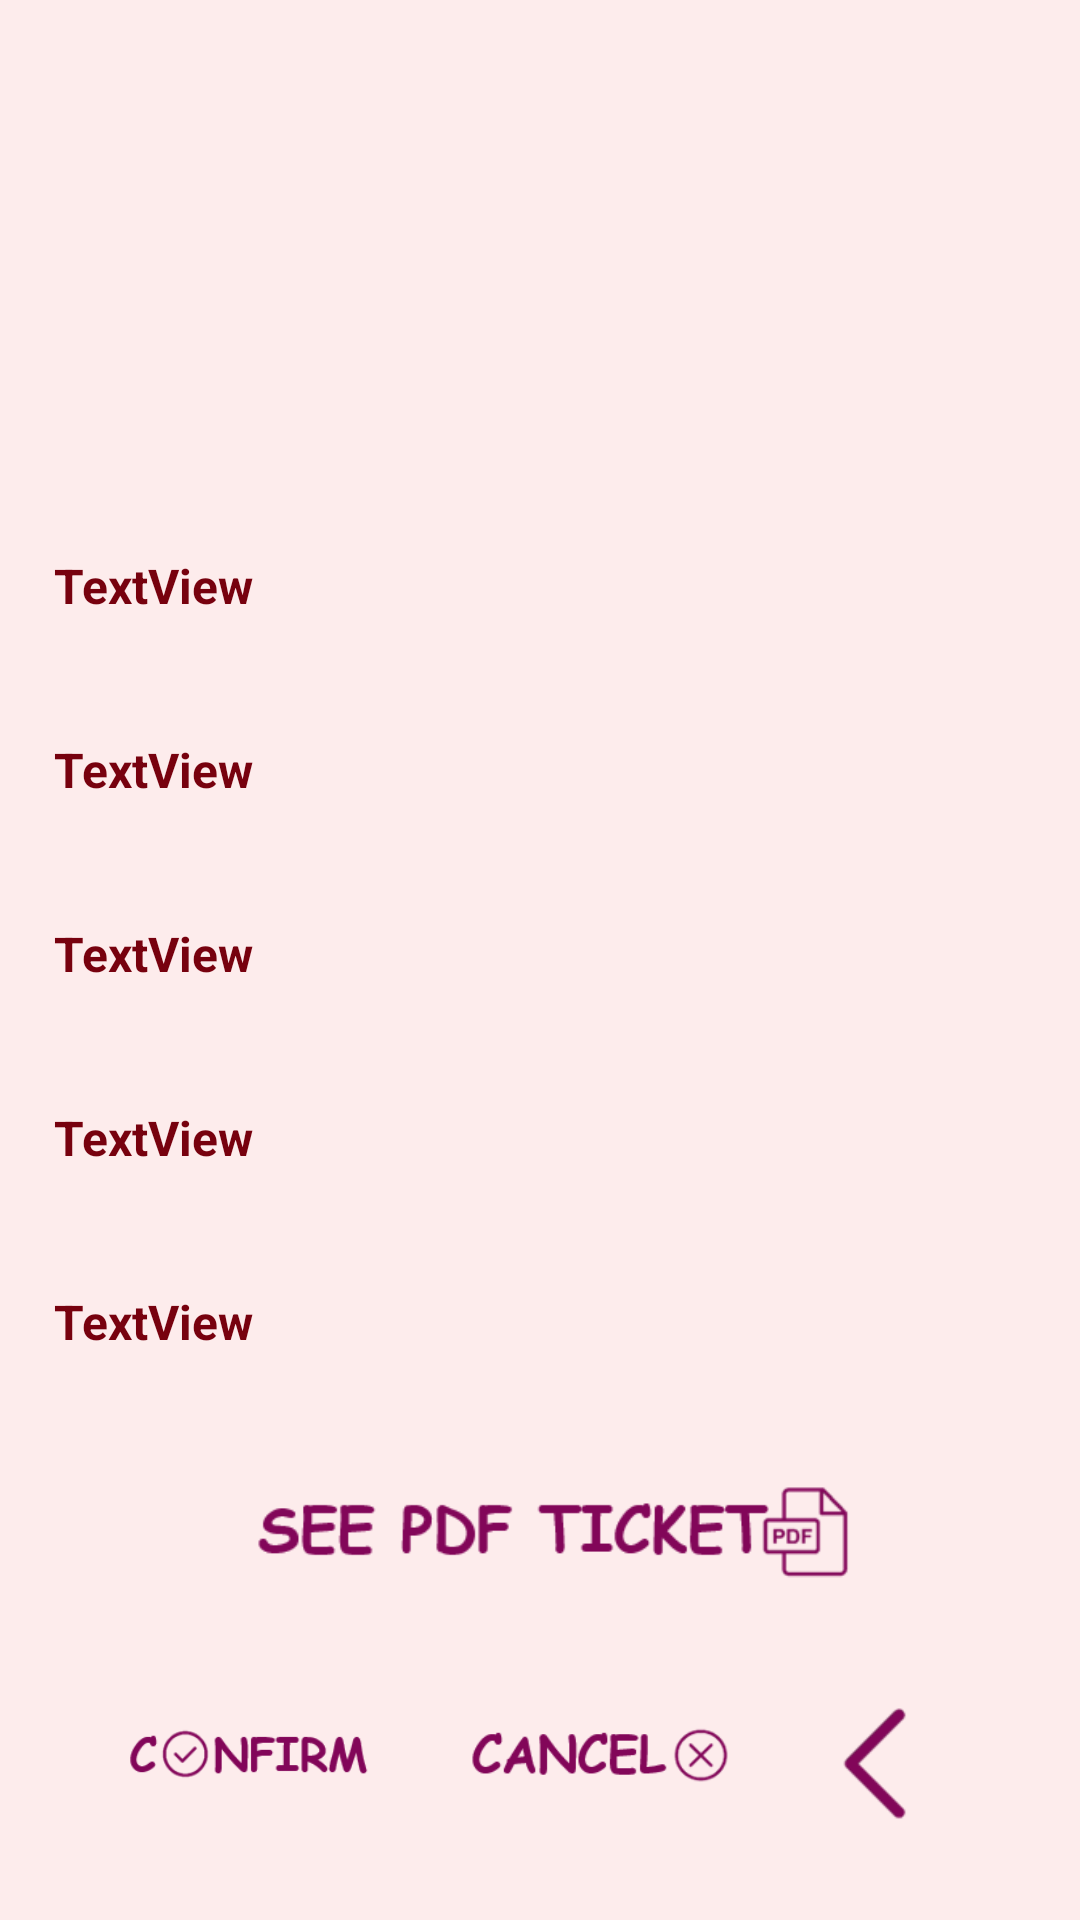

Where icons sit on this 1080x1920 app screen, as (x1, y1, x2, y2):
back: (843, 1708, 906, 1819)
